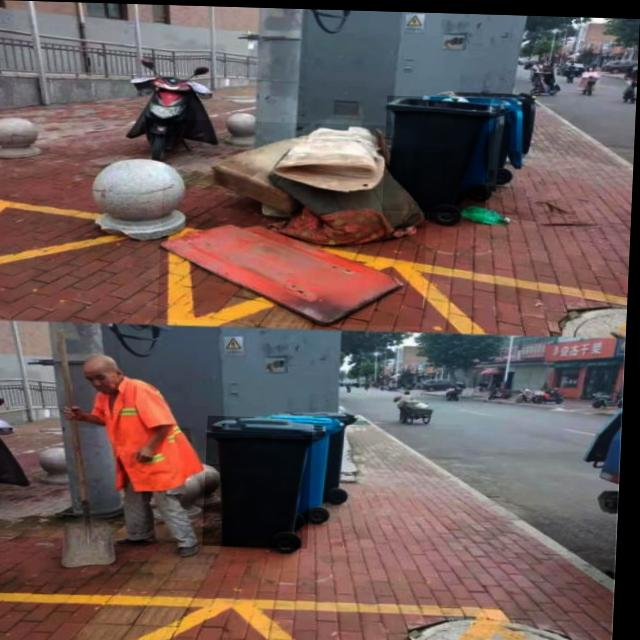garbage: (160, 118, 432, 324)
garbage_bin: (207, 414, 317, 547), (384, 93, 491, 211)
